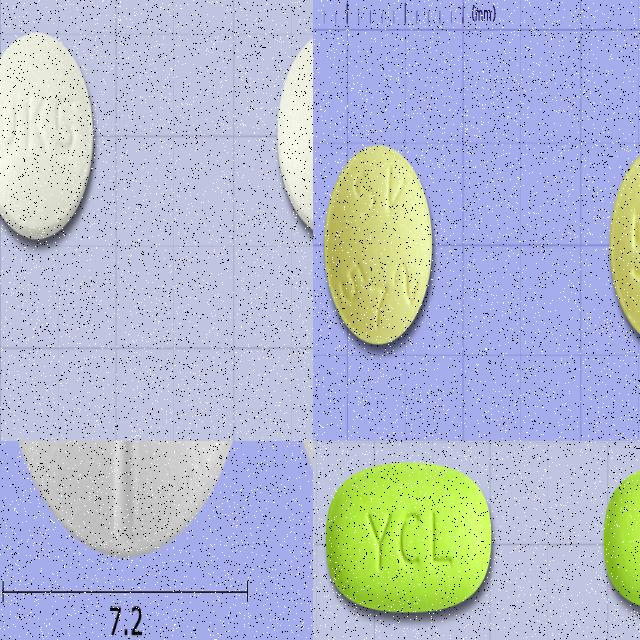Durova - 20mg: (1, 441, 250, 557)
Tricyline-N Cap: (323, 140, 434, 347), (609, 142, 640, 349)
Unifixime Cap: (0, 29, 95, 241), (277, 28, 313, 240)
Zecla Tab: (324, 463, 492, 614), (602, 459, 640, 612)
